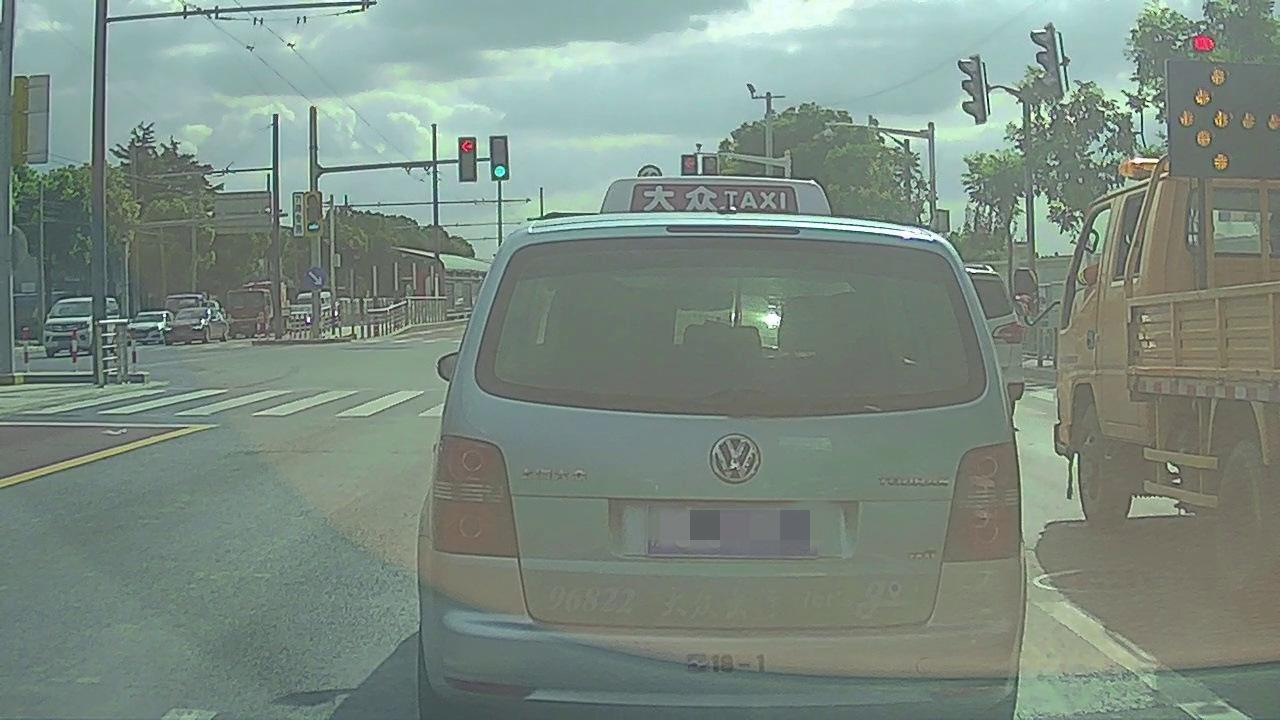traffic_light: (457, 137, 476, 182), (489, 136, 508, 180), (682, 155, 697, 175), (703, 157, 718, 175)
